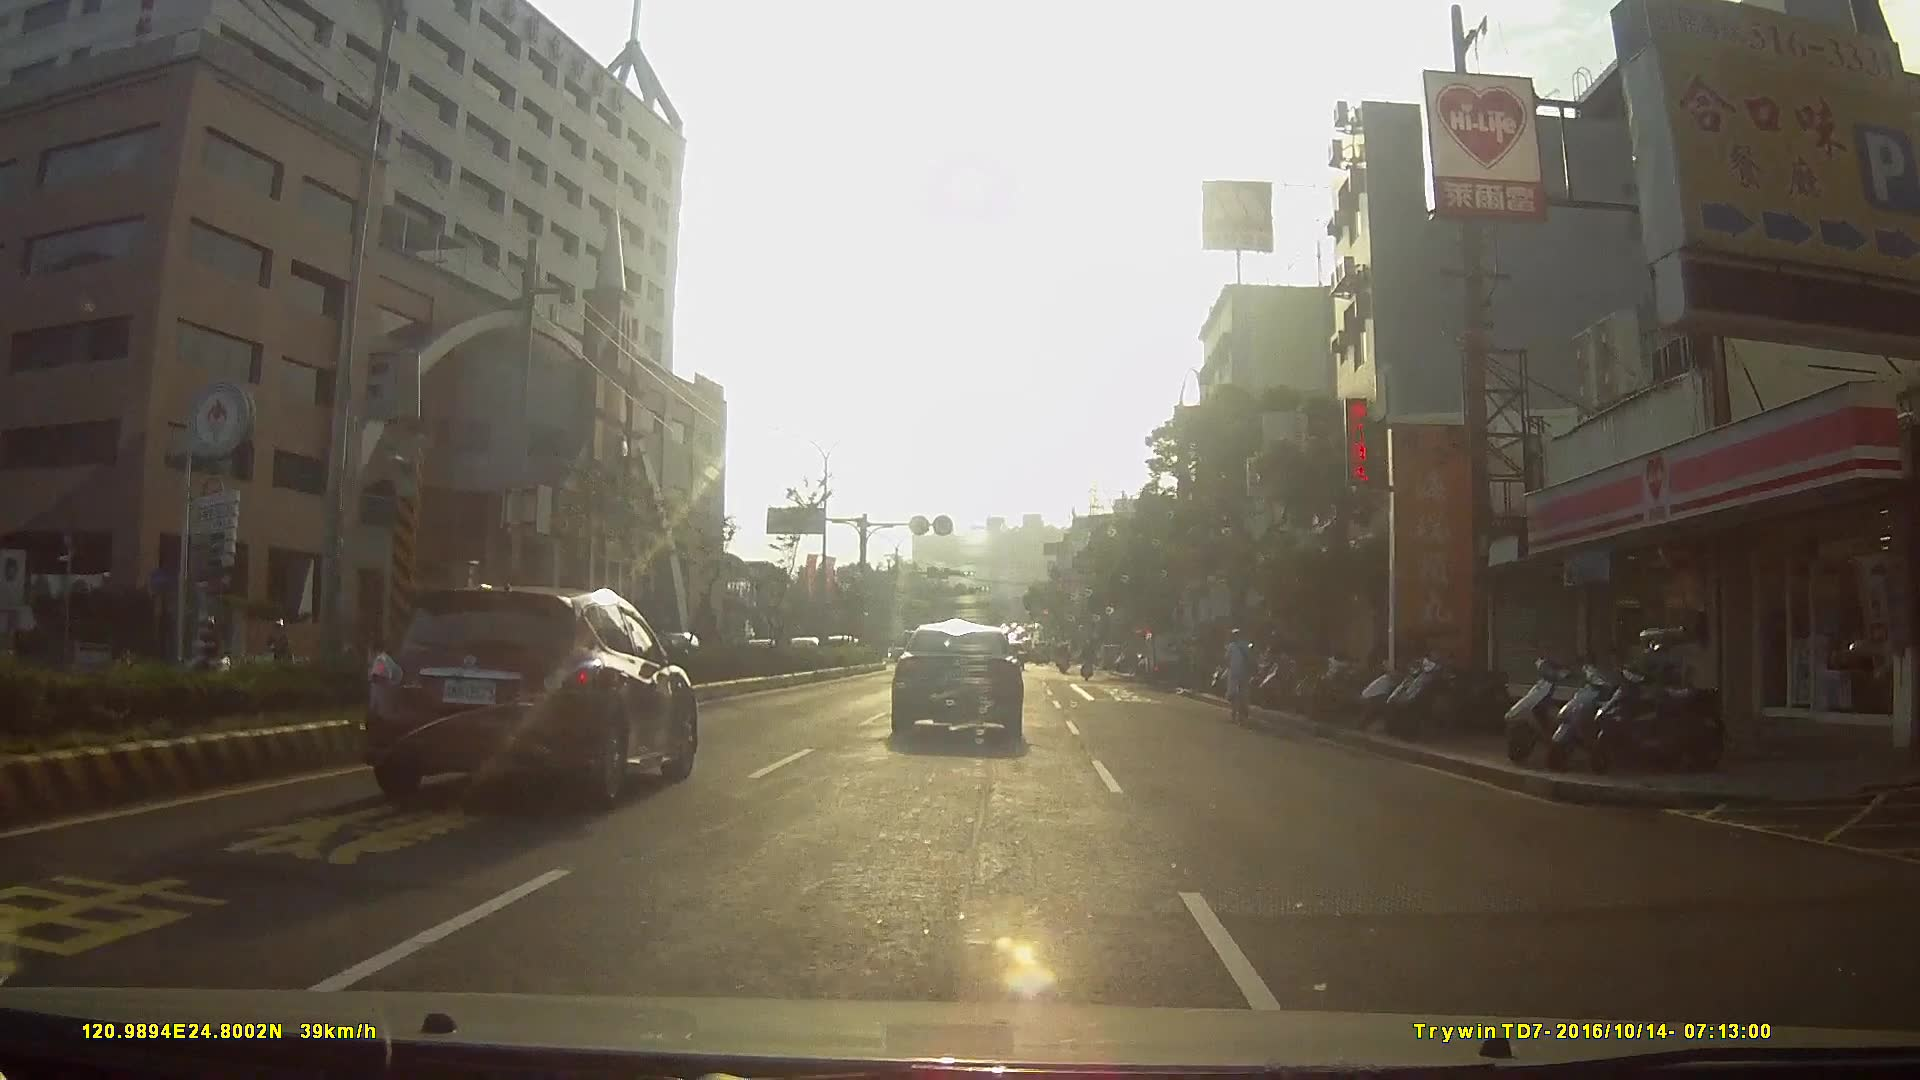rider: (174, 612, 239, 692), (238, 614, 299, 687), (1220, 628, 1260, 724)
vehicle: (356, 570, 716, 805), (888, 615, 1039, 747), (1141, 621, 1205, 683), (763, 607, 822, 662)
